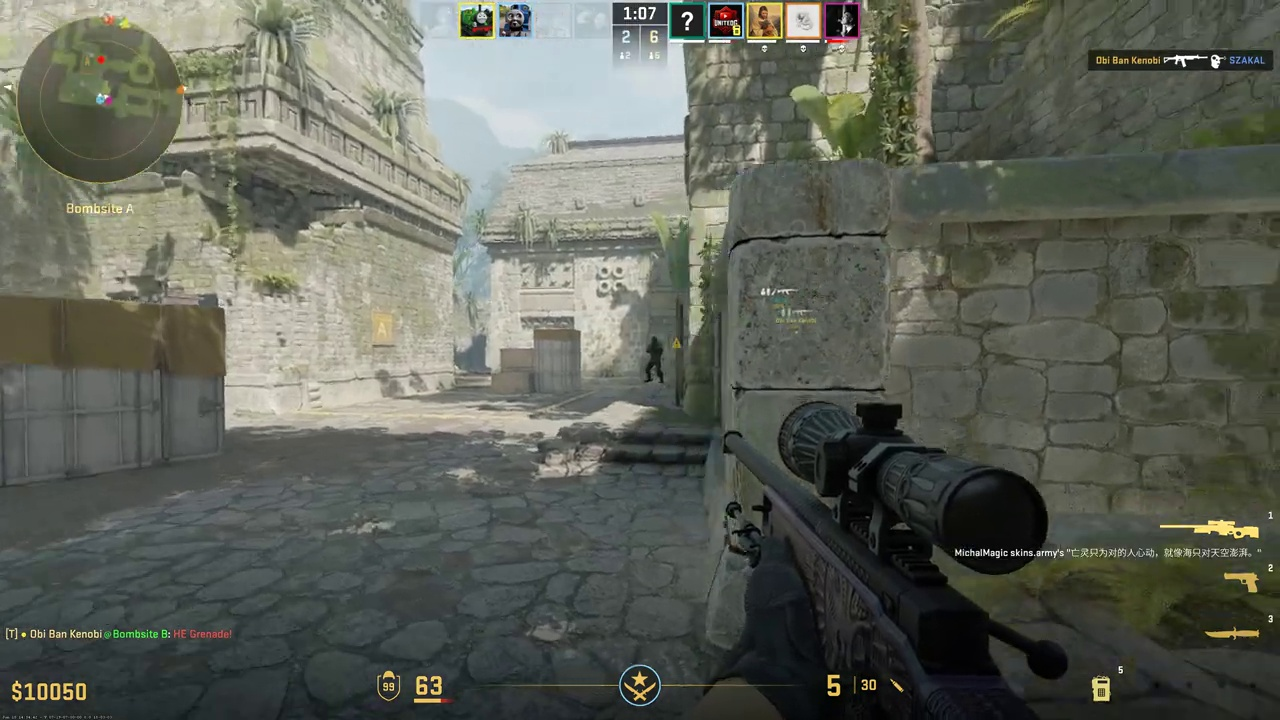CT: (644, 336, 664, 383)
